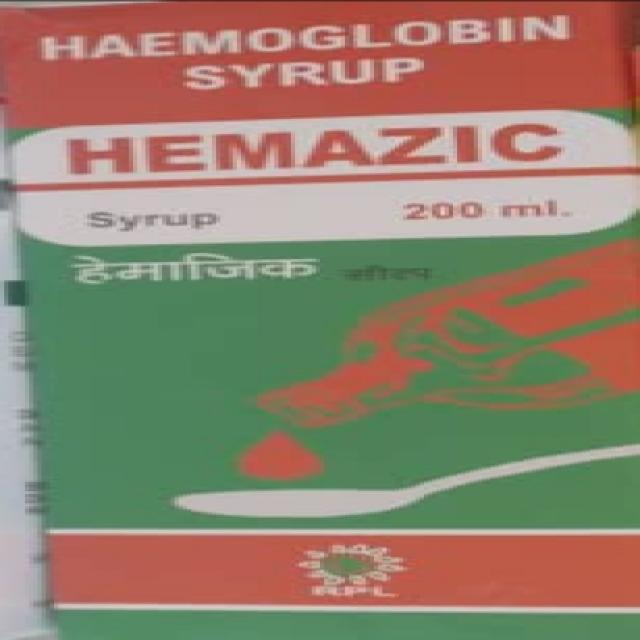drug-name: (59, 117, 568, 179)
